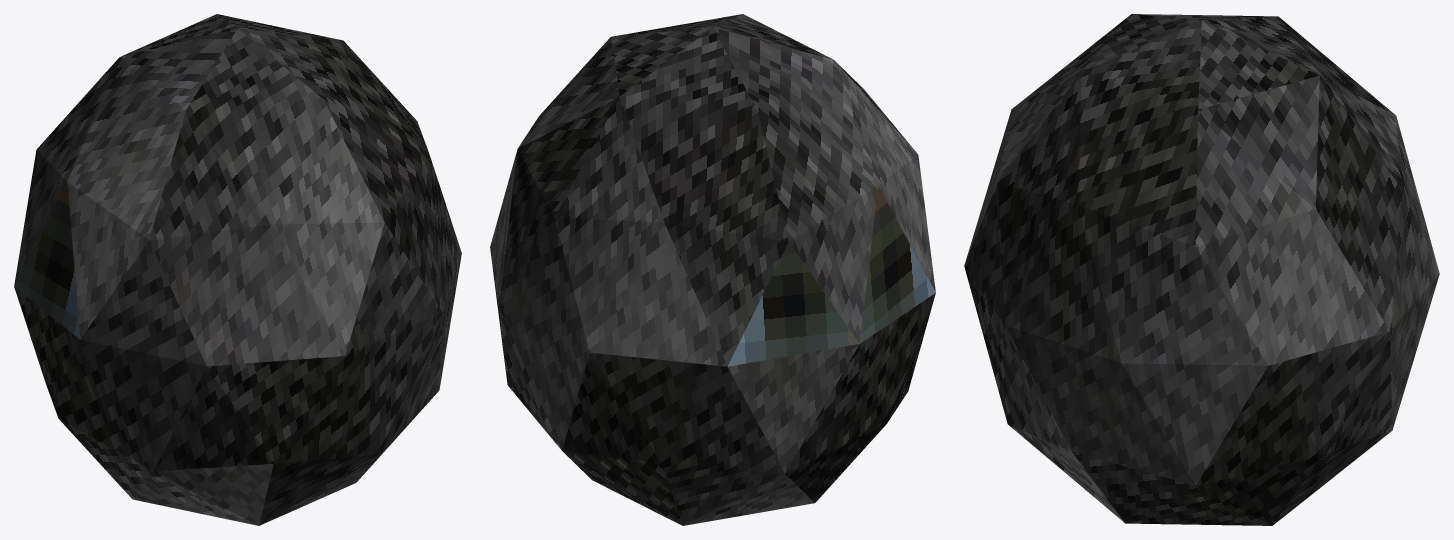
File: bandit.glb
3 views of the same model, side by side, from view 1: azimuth 30°, elevation 25°; view 2: azimuth 150°, elevation 25°; view 3: azimuth 270°, elevation 25° (orthographic). The views are drawn at different scales.
Visible parts, largest first — view 1: Iкосфера; view 2: Iкосфера; view 3: Iкосфера.
Boxes of the visible parts, left/top/right/bottom form: Iкосфера: left=14, top=14, right=461, bottom=525; Iкосфера: left=490, top=14, right=935, bottom=525; Iкосфера: left=964, top=14, right=1439, bottom=525.
Size of the model in its own units: 0.6869 by 0.8356 by 0.7209.
Materials: 1 (1 with a texture image).
